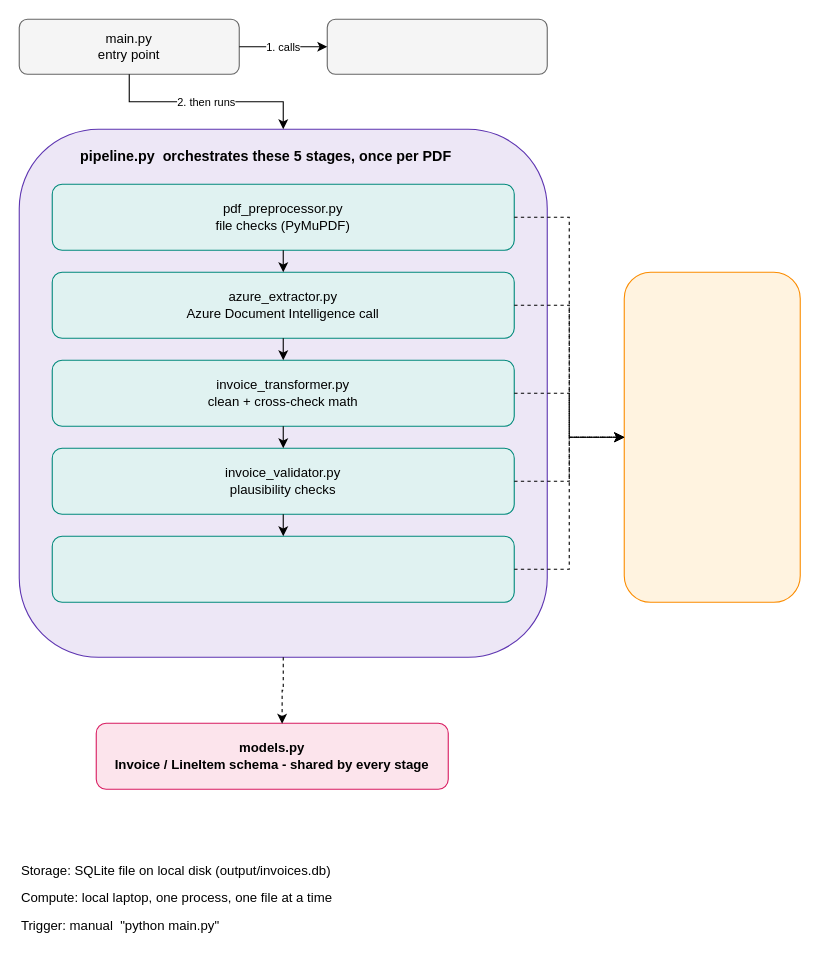
This 820x953 diagram has some shape labels left out. Each missing label, with the centre of its shape:
"database.py save to SQLite" goes at (282,568).
"Logging every stage writes here logs/ pipeline_*.log" goes at (711,436).
"logging_config.py setup_logging()" goes at (436,46).
